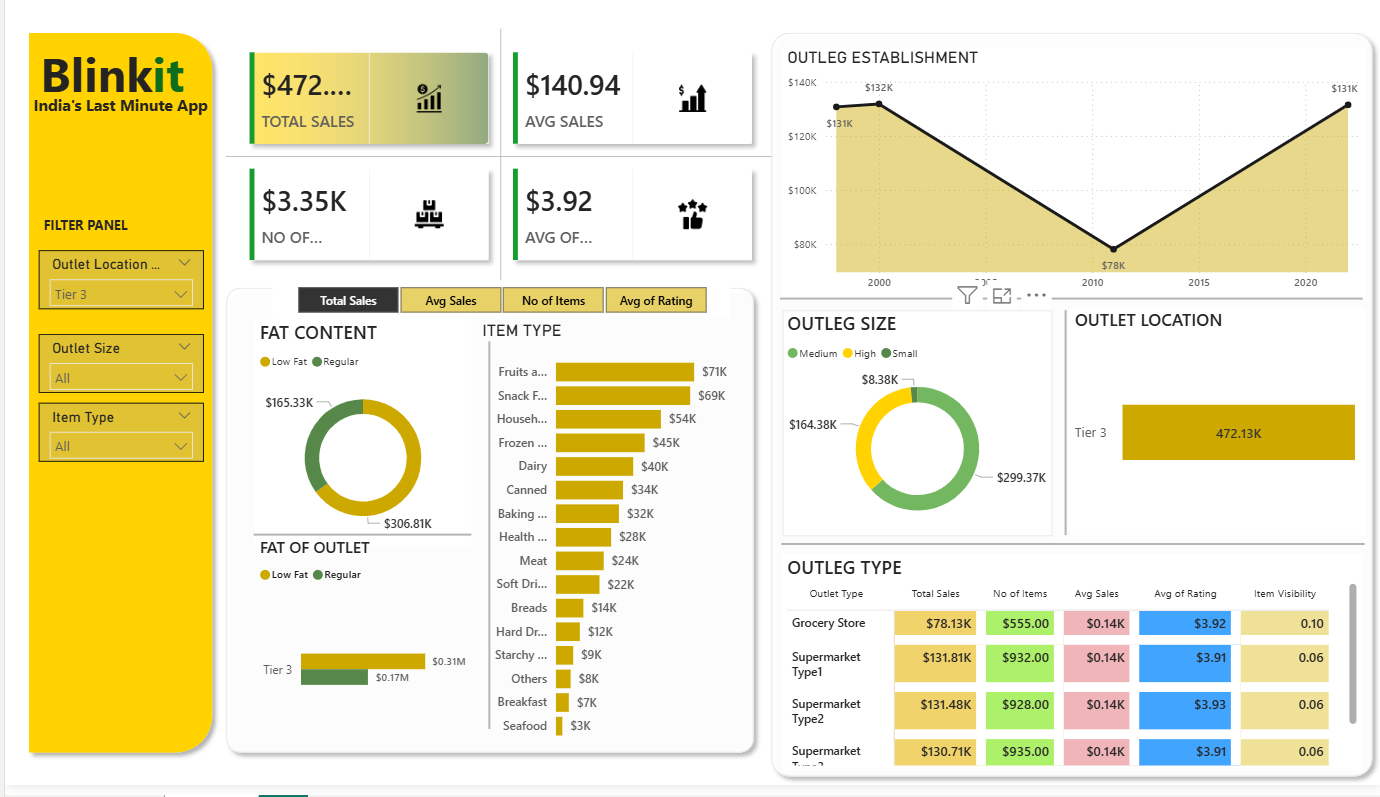

The dashboard page shown, as its layout file describes it:
{"tool":"powerbi","page":{"name":"Page 1","canvas":[1400,800],"ordinal":0},"visuals":[{"type":"shape","box":[15.3,25.4,204.8,750.4],"z":0},{"type":"textbox","box":[15.3,38.2,188.2,73.8],"z":1000},{"type":"textbox","box":[15.3,91.6,204.8,39.4],"z":2000},{"type":"cardVisual","fields":{"Data":["BlinkIT Grocery Data.Total Sales","BlinkIT Grocery Data.Avg Sales","BlinkIT Grocery Data.No of Items","BlinkIT Grocery Data.Avg of Rating"]},"box":[220,25.4,569.8,269.6],"z":3000},{"type":"shape","box":[216.2,284.9,554.5,490.9],"z":4000},{"type":"donutChart","title":"FAT CONTENT","fields":{"Y":["BlinkIT Grocery Data.Total Sales"],"Category":["BlinkIT Grocery Data.Item Fat Content"]},"box":[254.4,325.6,220,230.2],"z":5000},{"type":"slicer","fields":{"Values":["Metrics.Metrics"]},"box":[272.2,286.2,465.5,39.4],"z":6000},{"type":"clusteredBarChart","title":"FAT OF OUTLET","fields":{"Y":["BlinkIT Grocery Data.Total Sales"],"Category":["BlinkIT Grocery Data.Outlet Location Type"],"Series":["BlinkIT Grocery Data.Item Fat Content"]},"box":[254.4,545.6,220,217.5],"z":7000},{"type":"shape","box":[253.1,535.4,221.3,19.1],"z":8000},{"type":"shape","box":[480.7,348.5,24.2,394.3],"z":9000},{"type":"barChart","title":"ITEM TYPE","fields":{"Y":["BlinkIT Grocery Data.Total Sales"],"Category":["BlinkIT Grocery Data.Item Type"]},"box":[480.7,326.9,269.6,437.5],"z":10000},{"type":"shape","box":[770.7,25.4,629.5,774.5],"z":11000},{"type":"lineChart","title":"OUTLEG ESTABLISHMENT","fields":{"Y":["BlinkIT Grocery Data.Total Sales"],"Category":["BlinkIT Grocery Data.Outlet Establishment Year"]},"box":[791.1,49.6,592.7,255.6],"z":12000},{"type":"shape","box":[788,295.7,592.8,19.5],"z":13000},{"type":"donutChart","title":"OUTLEG SIZE","fields":{"Y":["BlinkIT Grocery Data.Total Sales"],"Category":["BlinkIT Grocery Data.Outlet Size"]},"box":[791,316.7,275,229.6],"z":14000},{"type":"shape","box":[1072.1,316.7,14,228.9],"z":15000},{"type":"funnel","title":"OUTLET LOCATION","fields":{"Y":["Sum(BlinkIT Grocery Data.  Sales)"],"Category":["BlinkIT Grocery Data.Outlet Location Type"]},"box":[1083.6,314.1,300.1,231.5],"z":16000},{"type":"shape","box":[789.8,544.3,593.9,20.3],"z":17000},{"type":"pivotTable","title":"OUTLEG TYPE","fields":{"Rows":["BlinkIT Grocery Data.Outlet Type"],"Values":["BlinkIT Grocery Data.Total Sales","BlinkIT Grocery Data.No of Items","BlinkIT Grocery Data.Avg Sales","BlinkIT Grocery Data.Avg of Rating","Avg(BlinkIT Grocery Data.Item Visibility)"]},"box":[791.1,564.7,590.1,220],"z":18000},{"type":"slicer","fields":{"Values":["BlinkIT Grocery Data.Outlet Location Type"]},"box":[34.3,255.6,167.9,59.8],"z":19000},{"type":"slicer","fields":{"Values":["BlinkIT Grocery Data.Outlet Size"]},"box":[34.3,340.8,167.9,59.8],"z":20000},{"type":"slicer","fields":{"Values":["BlinkIT Grocery Data.Item Type"]},"box":[34.3,410.8,167.9,59.8],"z":21000},{"type":"textbox","box":[34.3,216.2,119.5,30.5],"z":22000}]}

Visuals, with their boxes in screenshot pixels (x1, y1, x2, y2), scaled from the page's 1400x800 canvas onto the 1380x797 screenshot:
shape: (15,25,217,773)
textbox: (15,38,201,112)
textbox: (15,91,217,131)
cardVisual - BlinkIT Grocery Data.Total Sales x BlinkIT Grocery Data.Avg Sales: (217,25,779,294)
shape: (213,284,760,773)
"FAT CONTENT" donutChart: (251,324,468,554)
slicer - Metrics.Metrics: (268,285,727,324)
"FAT OF OUTLET" clusteredBarChart: (251,544,468,760)
shape: (249,533,468,552)
shape: (474,347,498,740)
"ITEM TYPE" barChart: (474,326,740,762)
shape: (760,25,1379,796)
"OUTLEG ESTABLISHMENT" lineChart: (780,49,1364,304)
shape: (777,295,1361,314)
"OUTLEG SIZE" donutChart: (780,316,1051,544)
shape: (1057,316,1071,544)
"OUTLET LOCATION" funnel: (1068,313,1364,544)
shape: (779,542,1364,562)
"OUTLEG TYPE" pivotTable: (780,563,1361,782)
slicer - BlinkIT Grocery Data.Outlet Location Type: (34,255,199,314)
slicer - BlinkIT Grocery Data.Outlet Size: (34,340,199,399)
slicer - BlinkIT Grocery Data.Item Type: (34,409,199,469)
textbox: (34,215,152,246)
